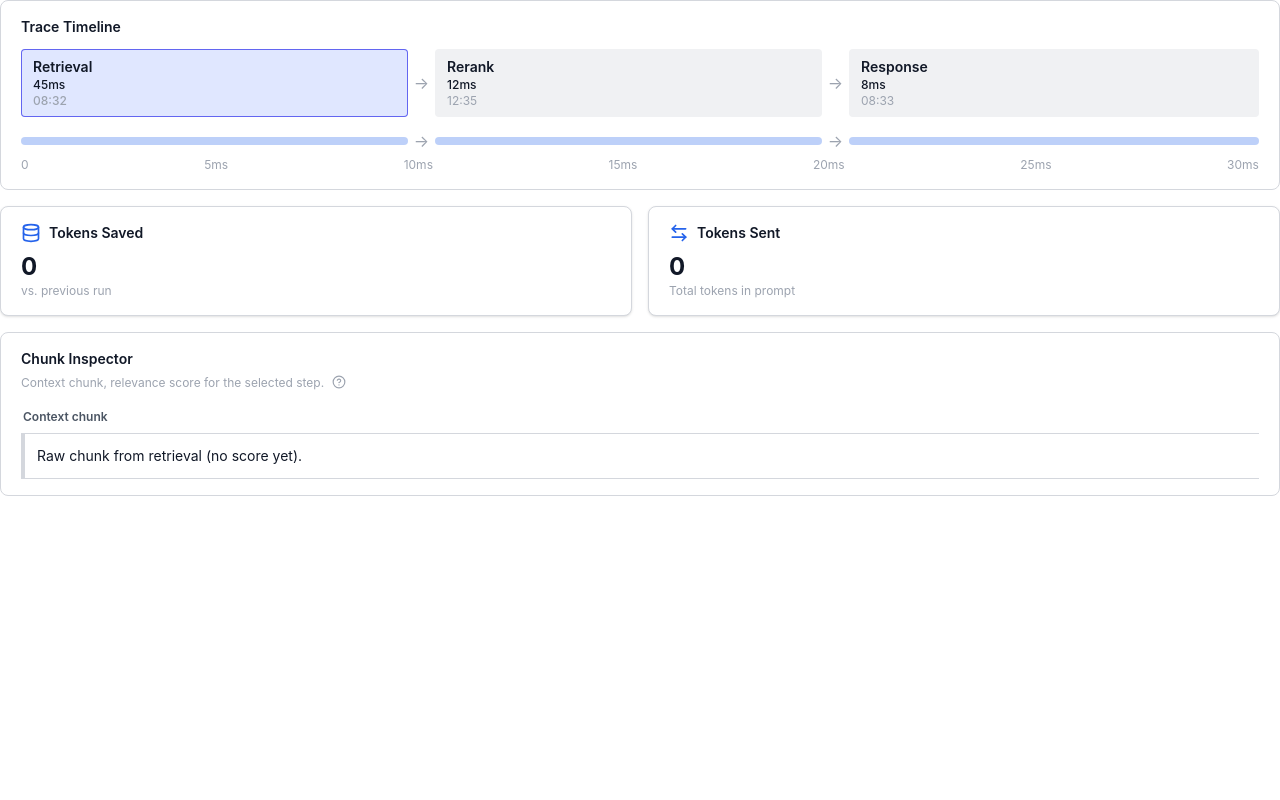
Test: TraceView › shows LLM Response panel when Response step is selected and trace has a response
Click the button "Response 8ms 08:33" at (894, 66), box [849,49,1259,117]
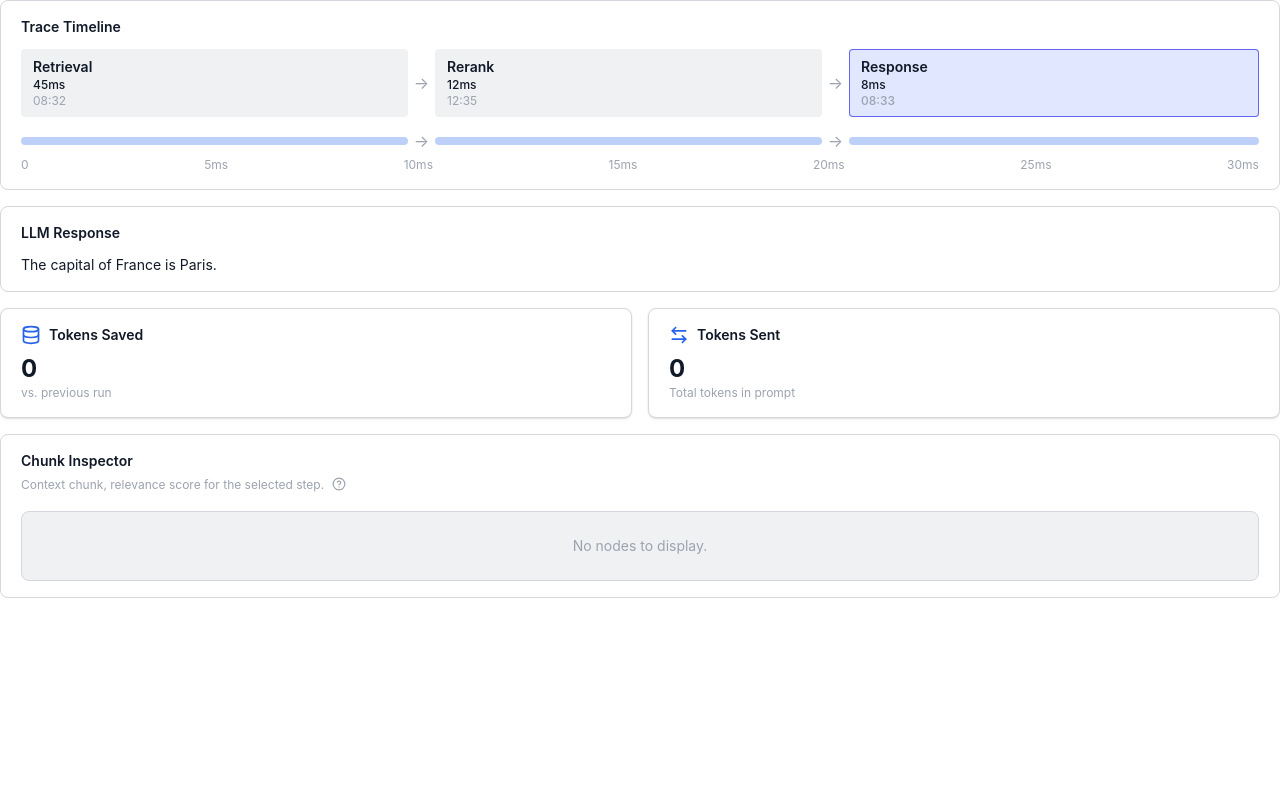
Check: the heading "LLM Response" is shown, box [21,223,120,243]
Check: the text "The capital of France is Paris." is shown, box [21,256,217,273]
